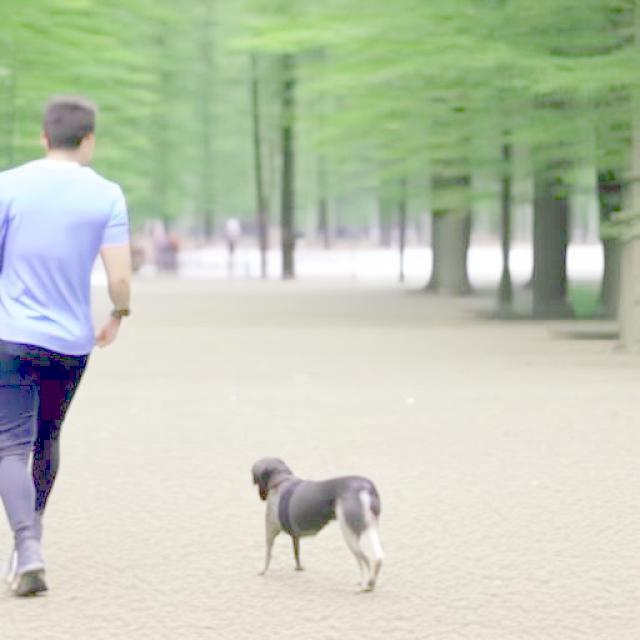Unleashed_Dog: (33, 344, 386, 595)
